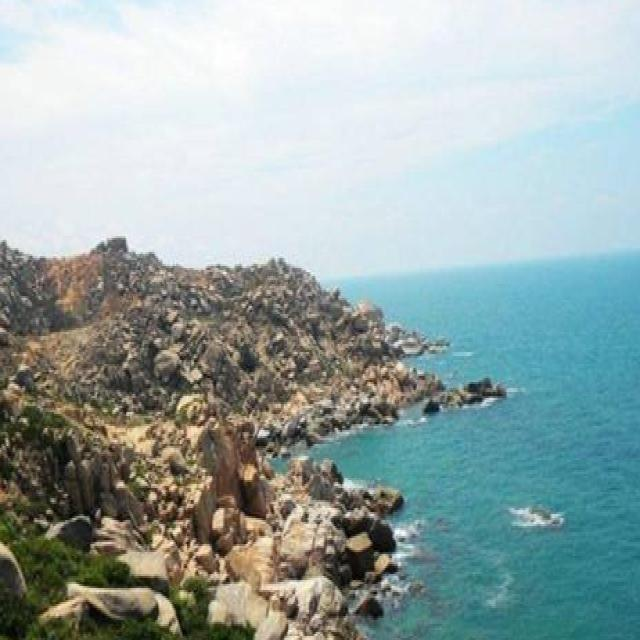reef: (203, 452, 430, 640), (299, 337, 446, 449)
